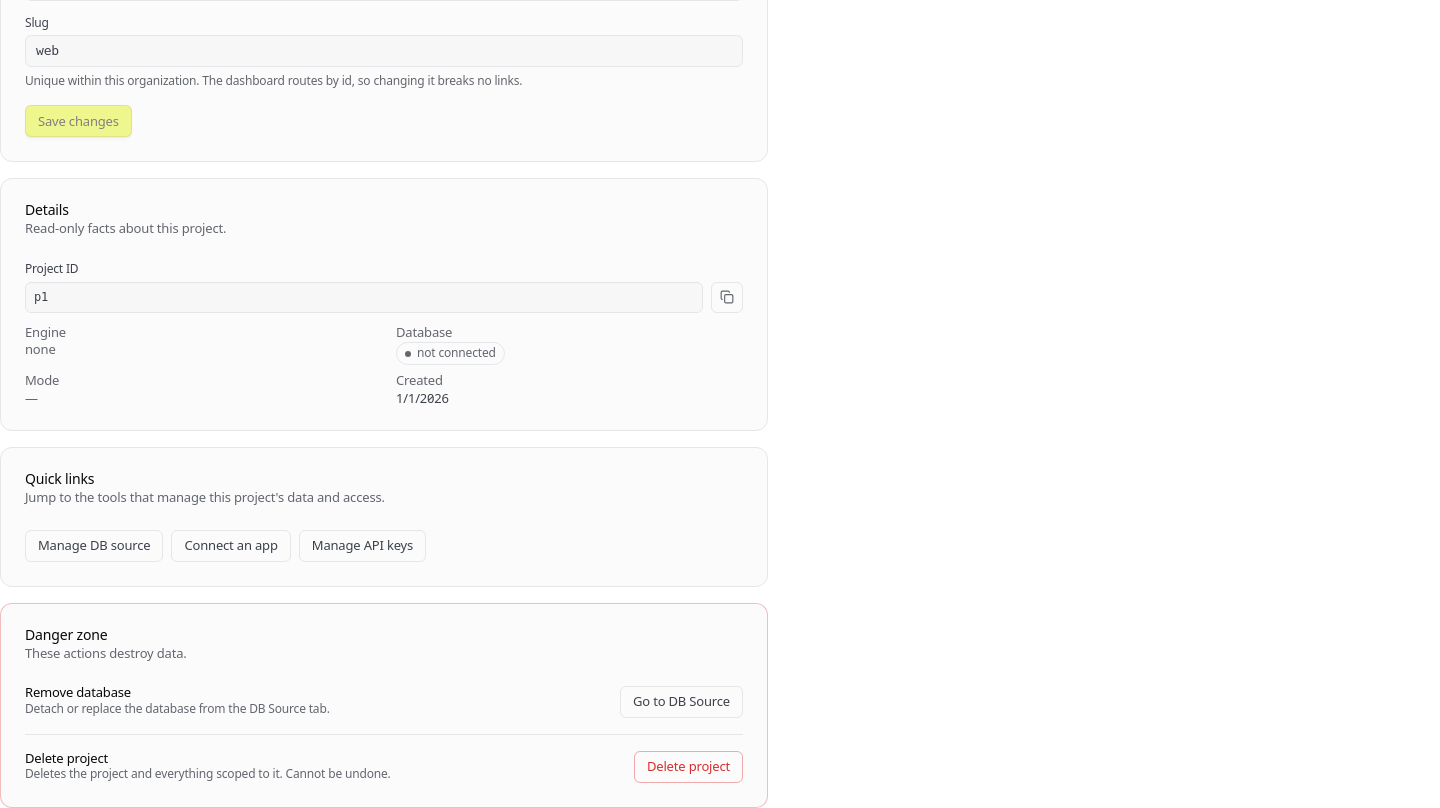
Test: ProjectSettingsPanel › keeps confirm disabled until the slug matches exactly
(page scrolled)
Click the button "Delete project".
click(688, 767)  # box [634,751,743,783]
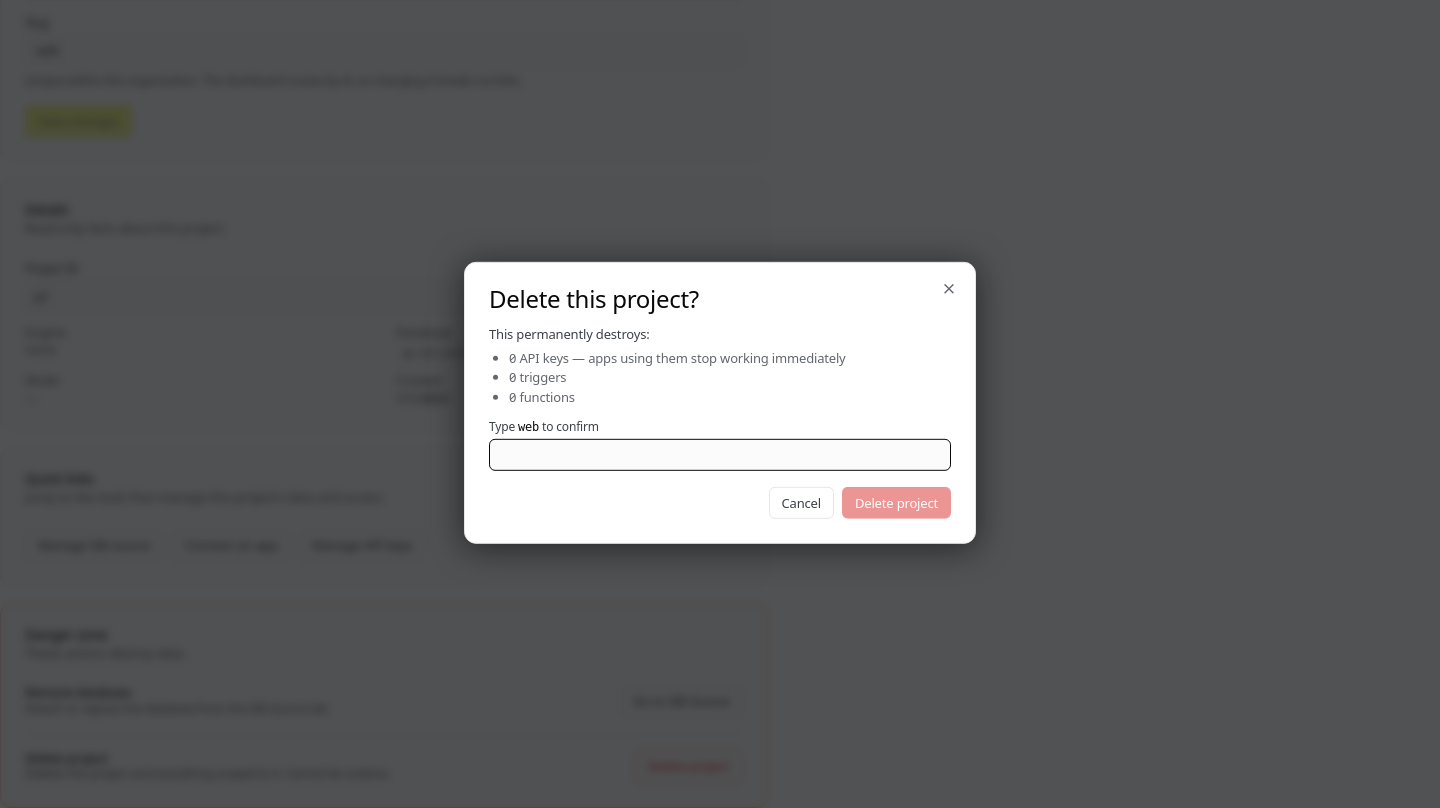
expect the button "Delete project" is disabled: met, box [842,487,951,519]
Type "we" into the field.
click(720, 455); type("we")  # box [489,439,951,471]
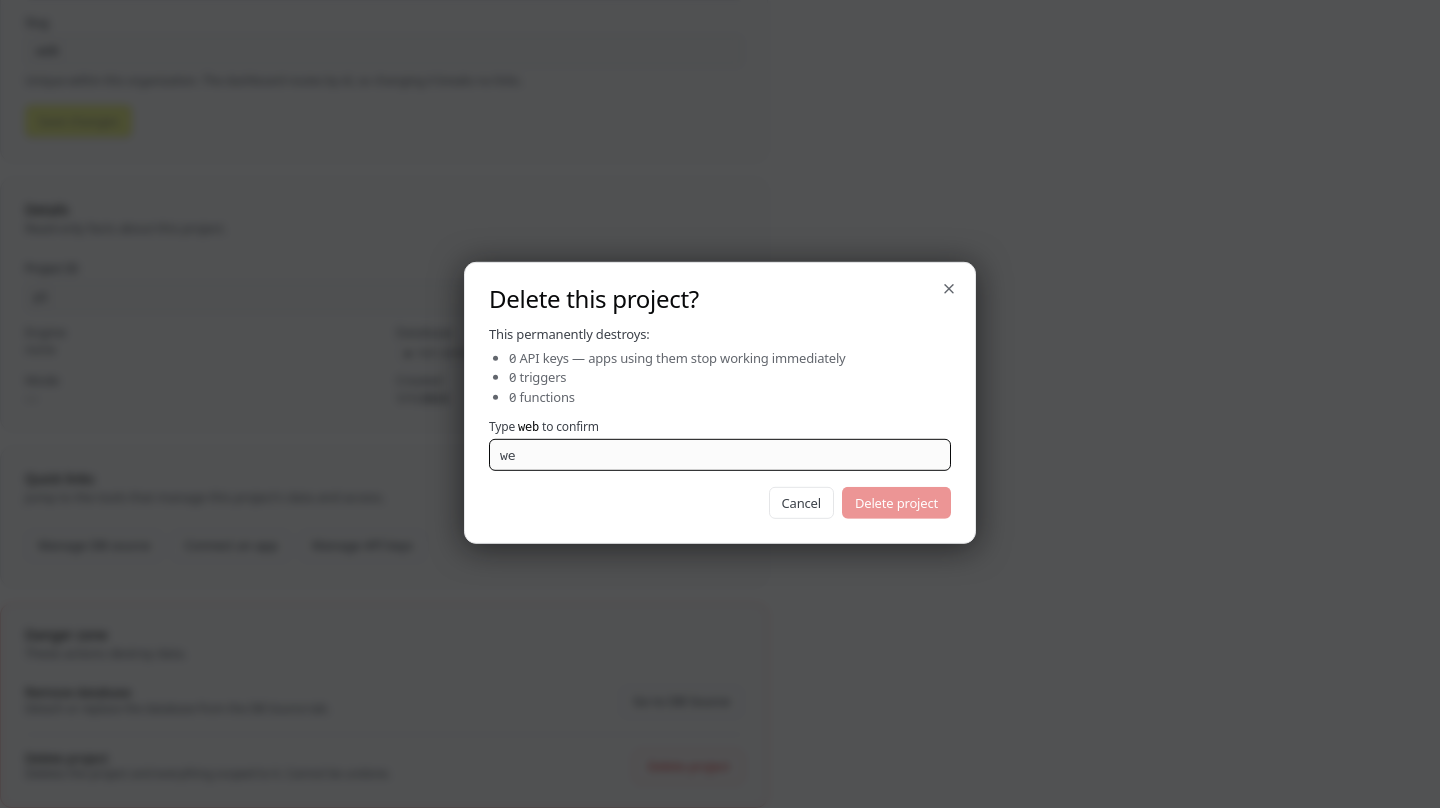
expect the button "Delete project" is disabled: met, box [842,487,951,519]
Type "b" into the field.
click(720, 455); type("b")  # box [489,439,951,471]
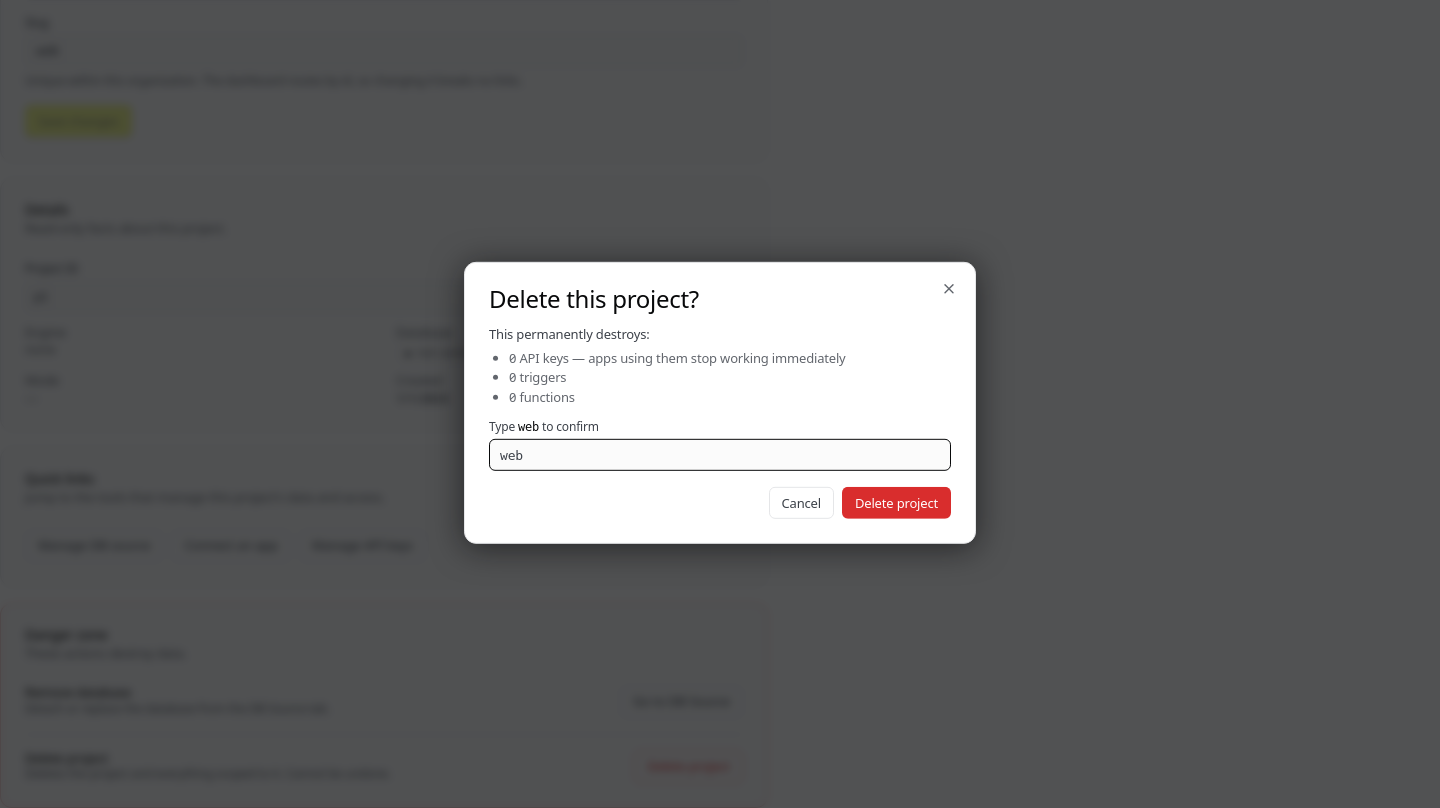
expect the button "Delete project" is enabled: met, box [842,487,951,519]
